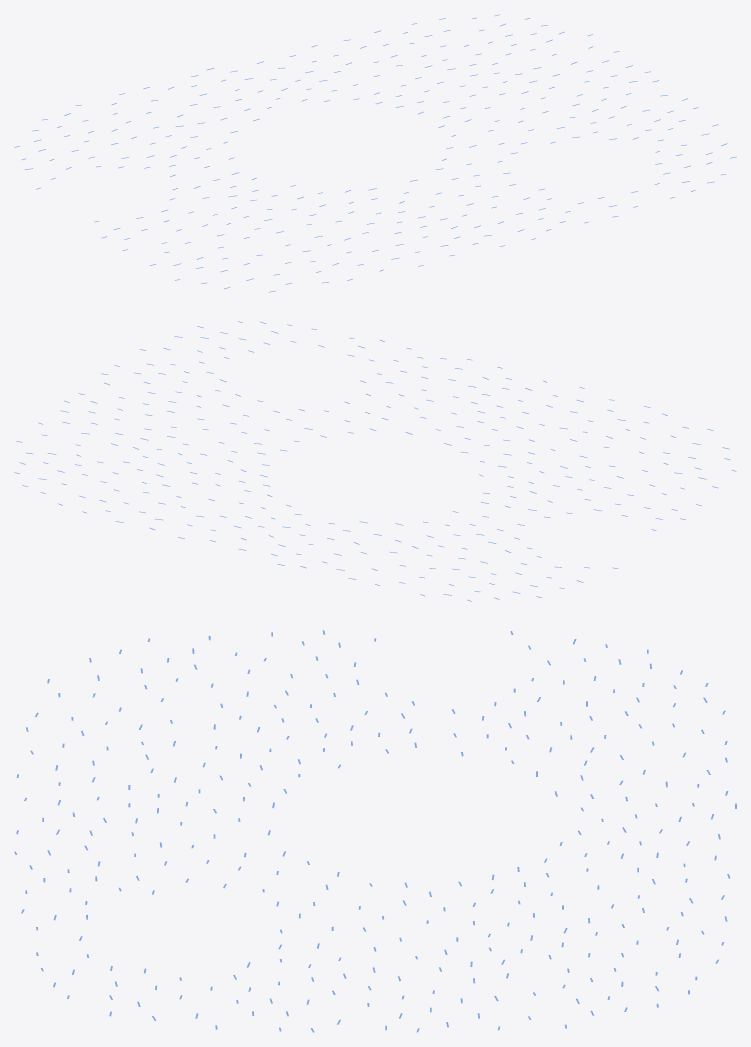
The model's file is ripples.glb.
The picture shows the model from 3 angles, top to bottom: view 1: azimuth 30°, elevation 25°; view 2: azimuth 150°, elevation 25°; view 3: azimuth 270°, elevation 25°; orthographic projection. The views are drawn at different scales.
Parts seen in each view (by area): view 1: Mesh; view 2: Mesh; view 3: Mesh.
Part boxes in pixels (x1,y1,x2,y2): Mesh: (14,14,736,292); Mesh: (14,321,736,601); Mesh: (14,630,736,1032).
Size of the model in its own units: 72.42 by 0 by 55.03.
